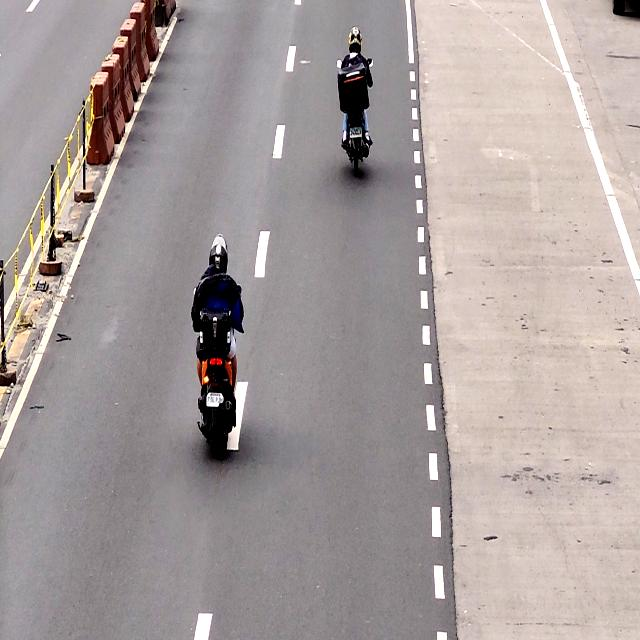License-Plate: (206, 390, 225, 410), (349, 126, 364, 138)
Motorcycle: (195, 235, 241, 460), (344, 26, 371, 170)
